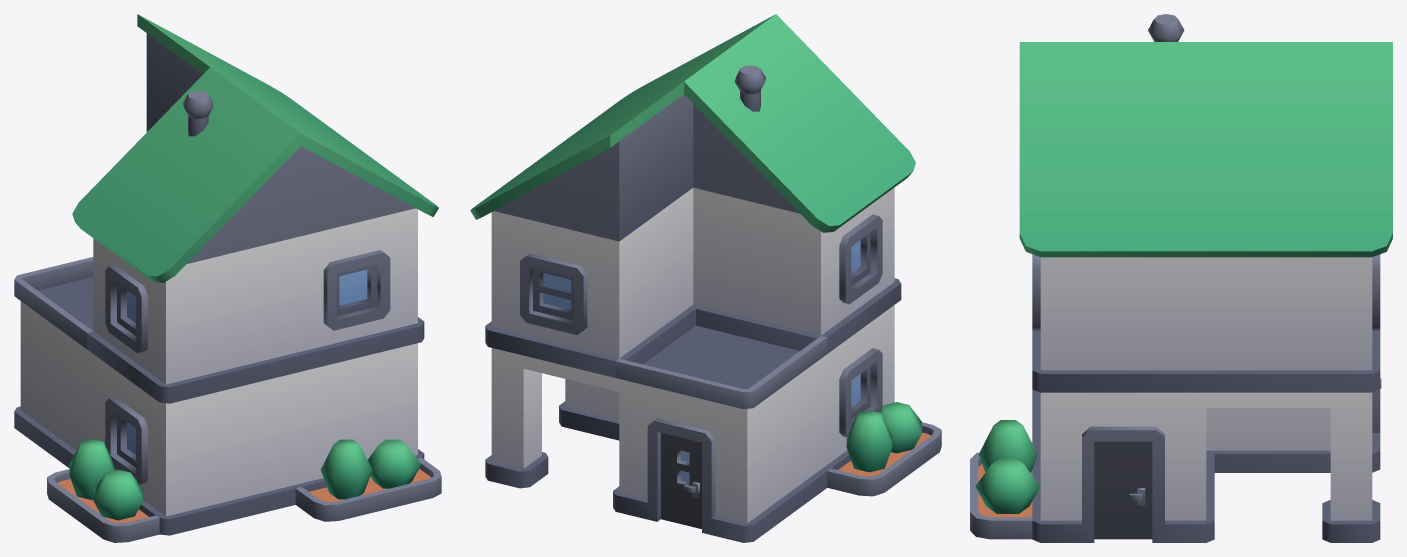
Rendered from house_suburb_r.glb.
3 views of the same model, side by side, from view 1: azimuth 30°, elevation 25°; view 2: azimuth 150°, elevation 25°; view 3: azimuth 270°, elevation 25° (orthographic). The views are drawn at different scales.
Parts seen in each view (by area): view 1: building-type-r; view 2: building-type-r; view 3: building-type-r.
Part boxes in pixels (bbox=[...]): building-type-r: bbox=[14, 14, 441, 542]; building-type-r: bbox=[470, 14, 941, 542]; building-type-r: bbox=[970, 14, 1392, 542].
Size of the model in its own units: 1.03 by 1.14 by 1.02.
1 material, 1 textured.
